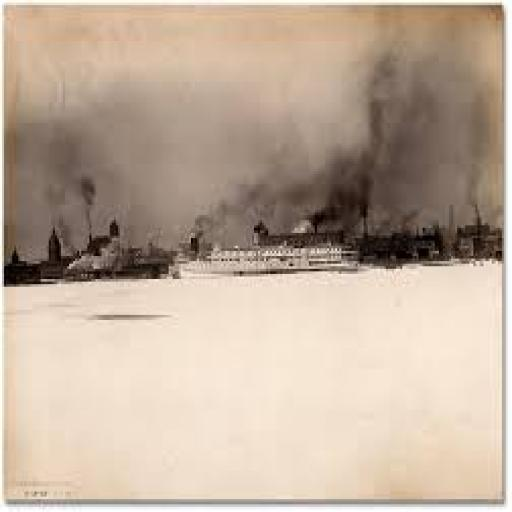smoke: (256, 64, 465, 230)
